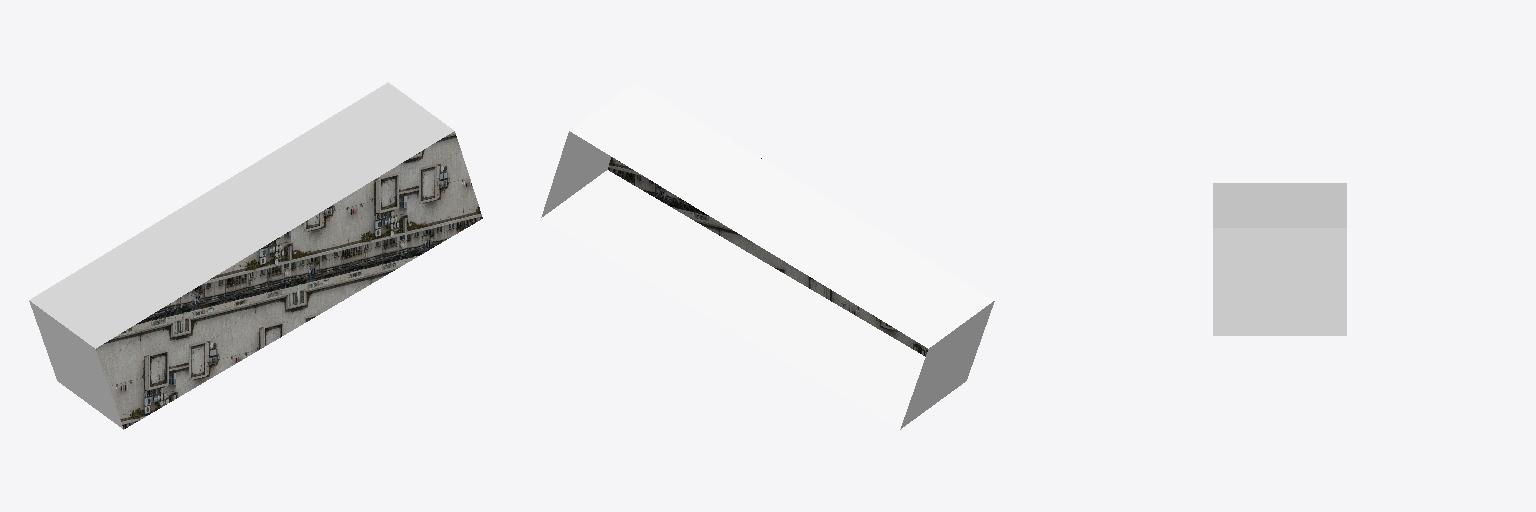
3 views of the same model, side by side, from view 1: azimuth 30°, elevation 25°; view 2: azimuth 150°, elevation 25°; view 3: azimuth 270°, elevation 25° (orthographic).
Parts seen in each view (by area): view 1: Building; view 2: Building; view 3: Building.
Boxes of the visible parts, x1,y1,x2,y2 form: Building: [29, 82, 482, 429]; Building: [541, 82, 994, 429]; Building: [1213, 183, 1346, 335].
Bounding box in the file's own units: 40.36 × 21.7 × 12.
Materials: 2 (1 with a texture image).